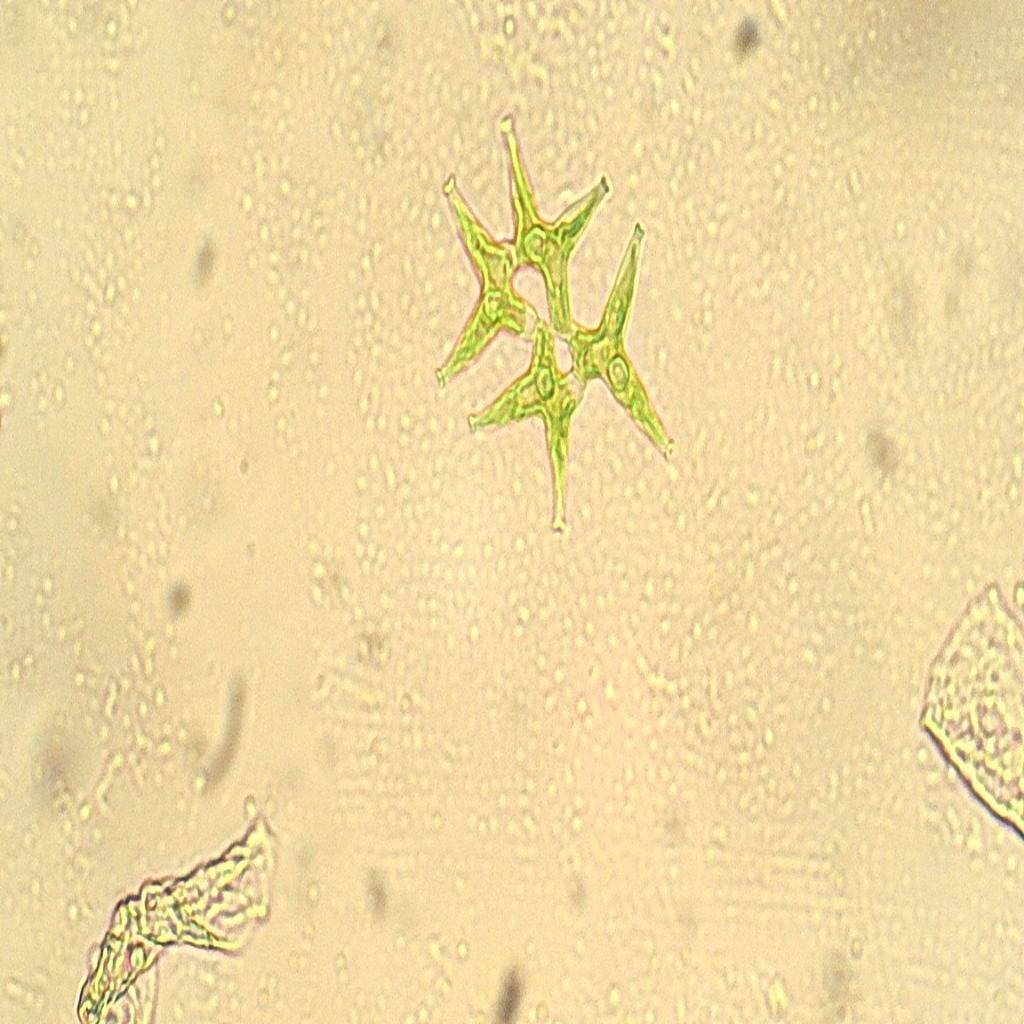Pediastrum_CF: (426, 99, 682, 556)
